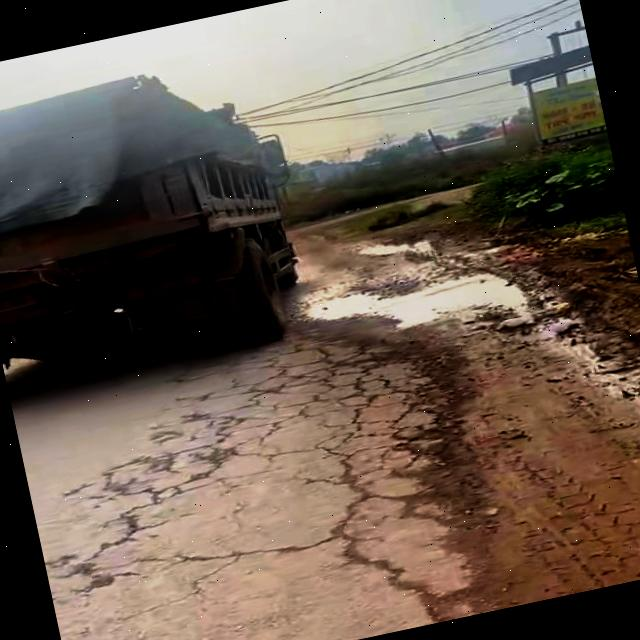pothole: (300, 254, 545, 360)
